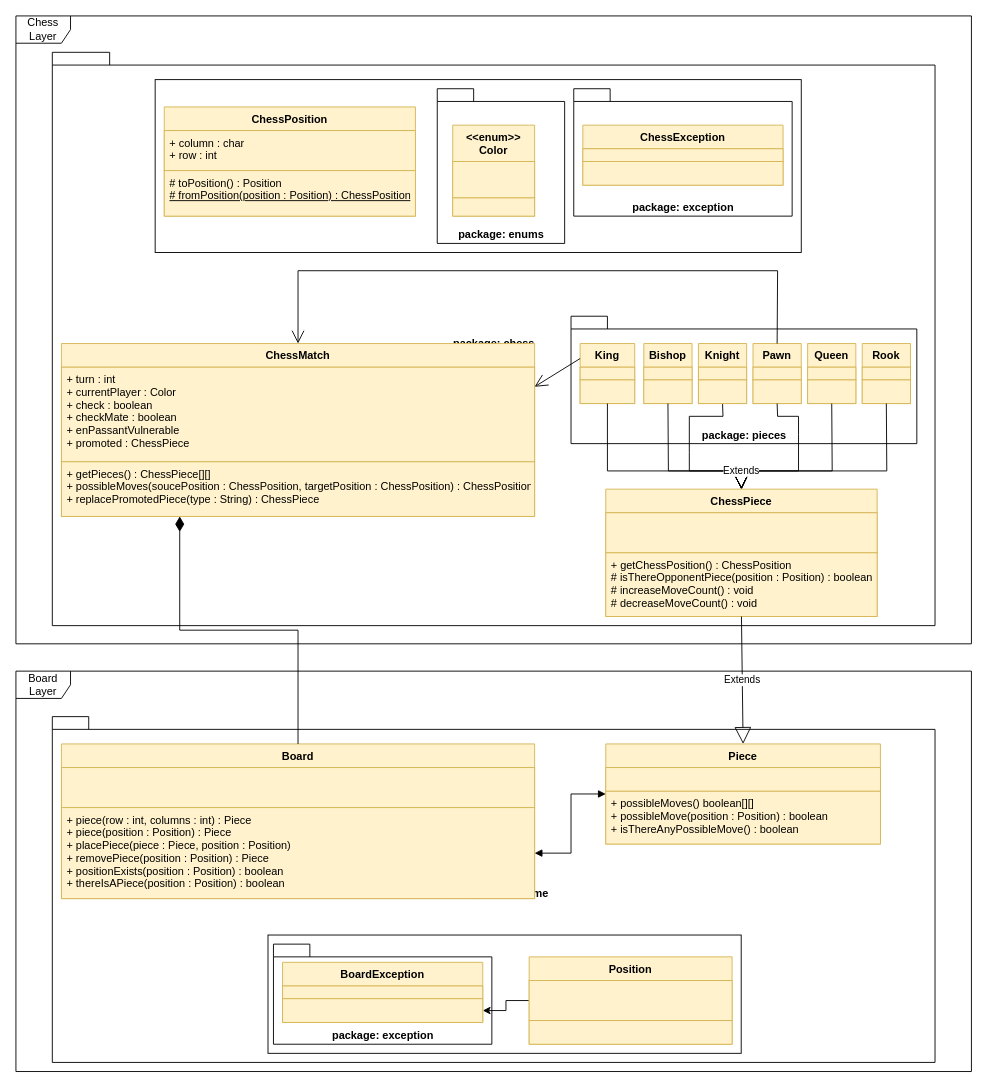
The diagram is 987 pixels wide and 1087 high, and some of its shapes have lost their labels. Here are the shapes that lost their labels. From the top down, the centre of each, then its label:
At [493,179]: "- BLACK : int - WHITE : int".
At [682,173]: "+ ChessException(msg : String) : void".
At [741,532]: "+ color : Color + moveCount : int".
At [298,787]: "+ rows : int + columns : int".
At [742,779]: "# position : Position".
At [382,1010]: "+ BoardException(msg : String) : void".
At [630,1000]: "+ row : int + column : int".
At [630,1032]: "+ setValues(row : int, column : int) : void".
